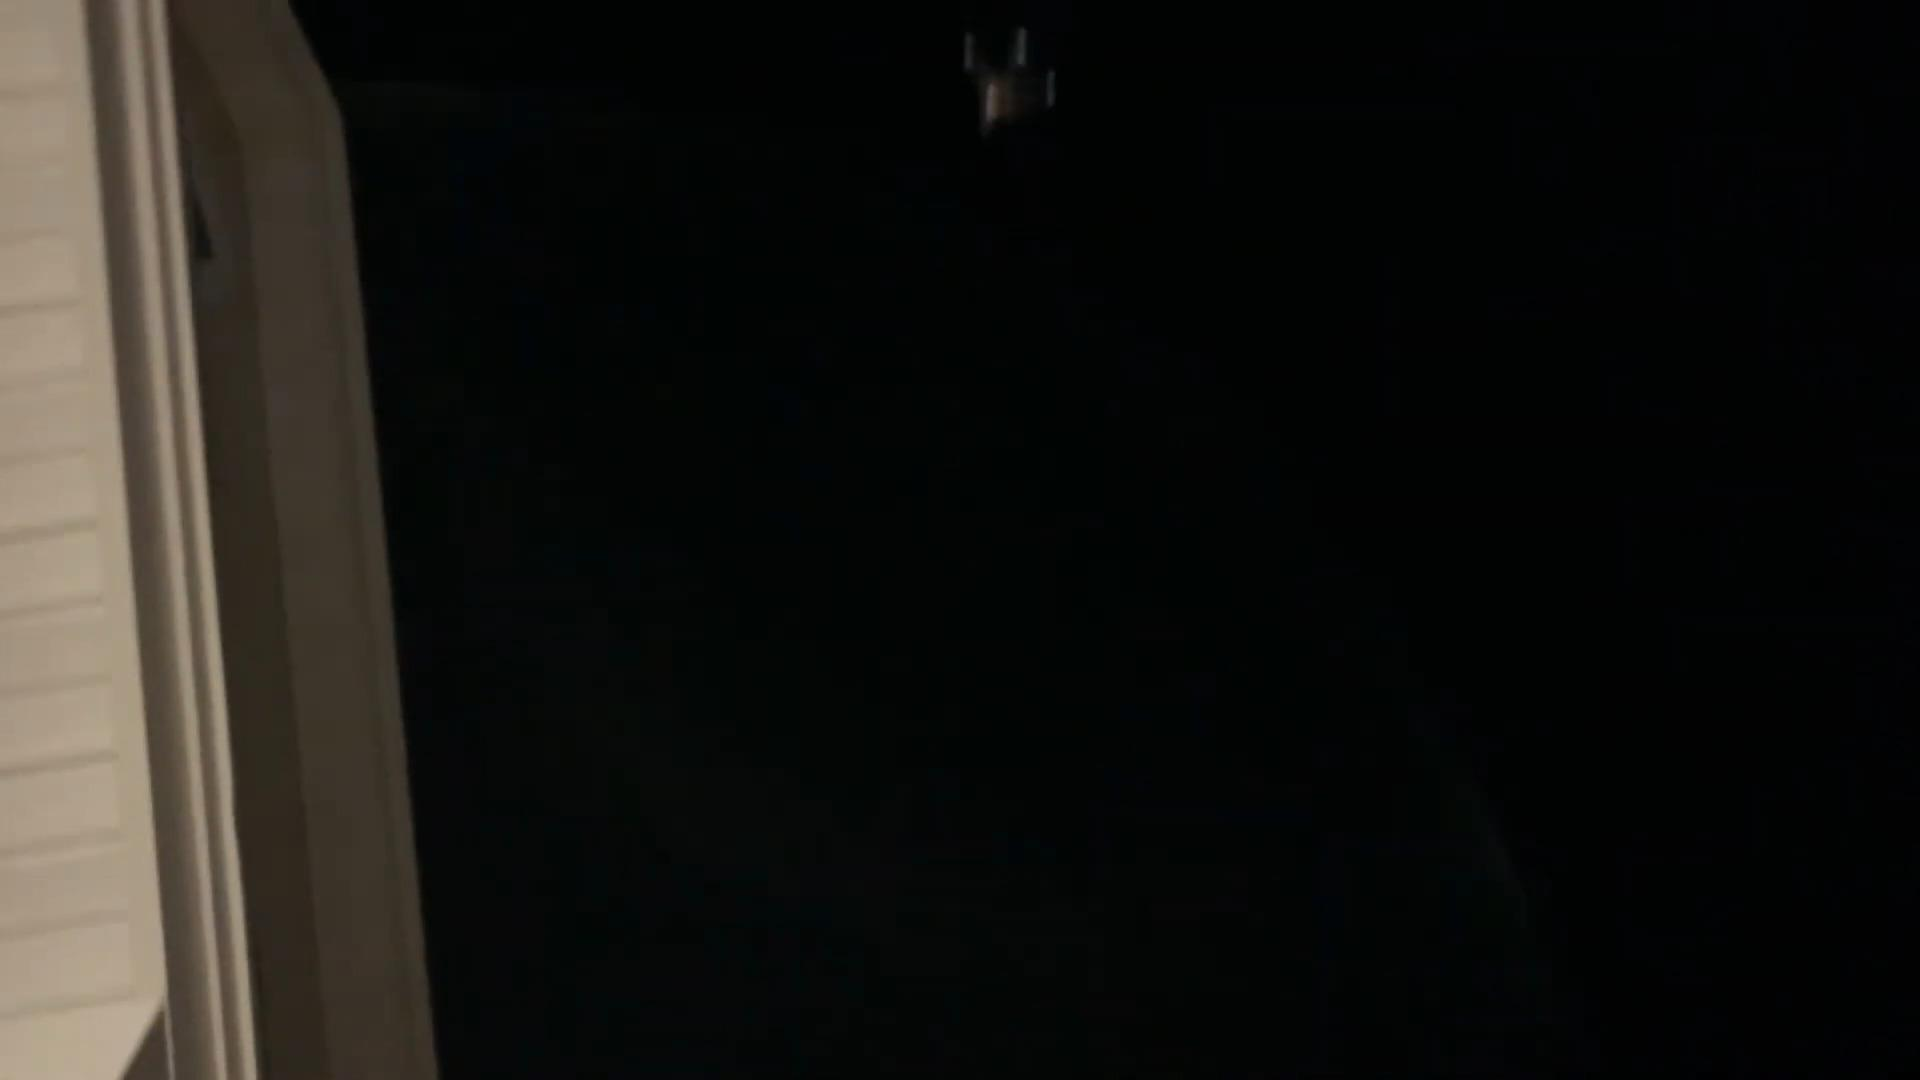Plane: (862, 11, 1128, 166)
